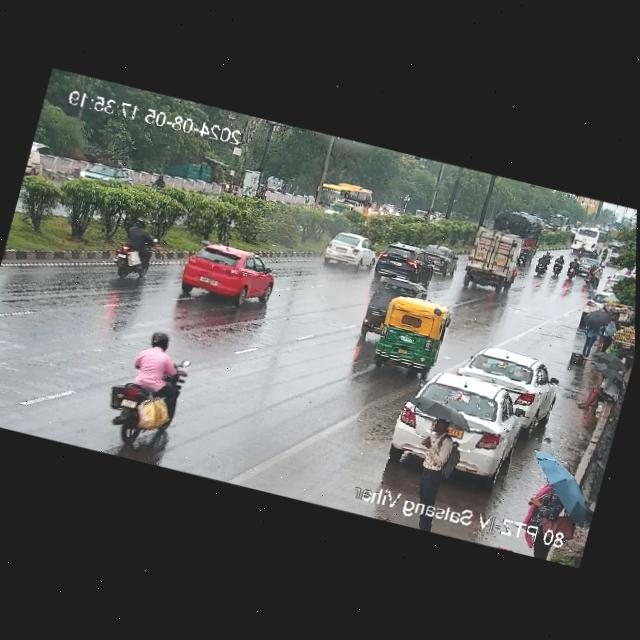bus: (312, 176, 371, 220), (568, 221, 610, 257), (544, 211, 569, 232)
car: (393, 360, 524, 481), (446, 340, 560, 424), (168, 234, 284, 315), (362, 289, 453, 379), (351, 268, 426, 345), (372, 233, 430, 283), (319, 228, 379, 275), (416, 240, 461, 278), (459, 265, 507, 295)
motorcycle: (93, 320, 204, 462), (104, 218, 163, 283), (531, 249, 554, 279), (580, 263, 602, 289), (547, 252, 566, 279), (562, 258, 581, 283)
person: (520, 459, 588, 549), (406, 413, 465, 498), (570, 361, 626, 414), (577, 302, 622, 362)
truck: (458, 219, 532, 297), (484, 204, 547, 263), (319, 192, 367, 225)
